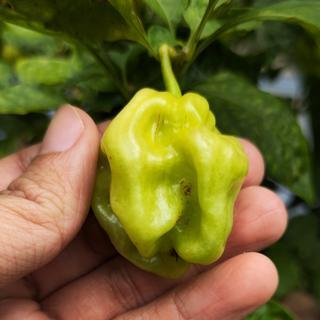Fly-bites: (179, 178, 196, 201)
